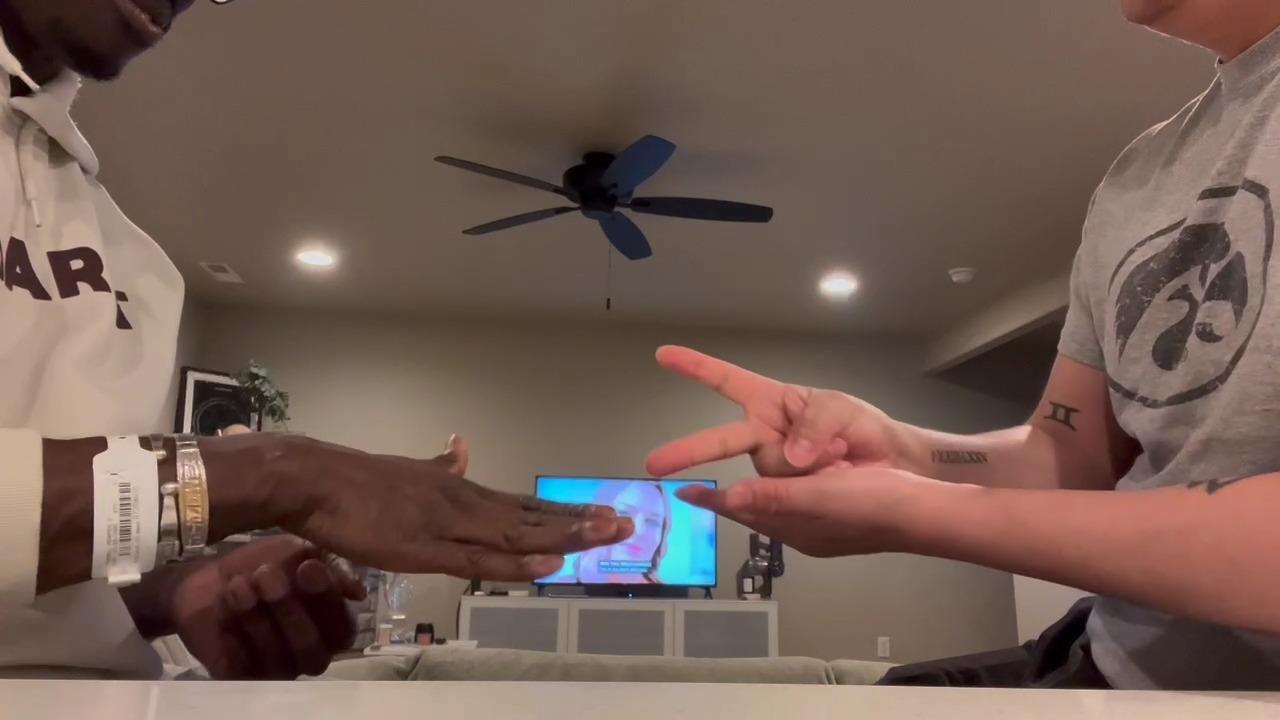Paper: (220, 435, 642, 584)
Scissors: (652, 345, 895, 480)
